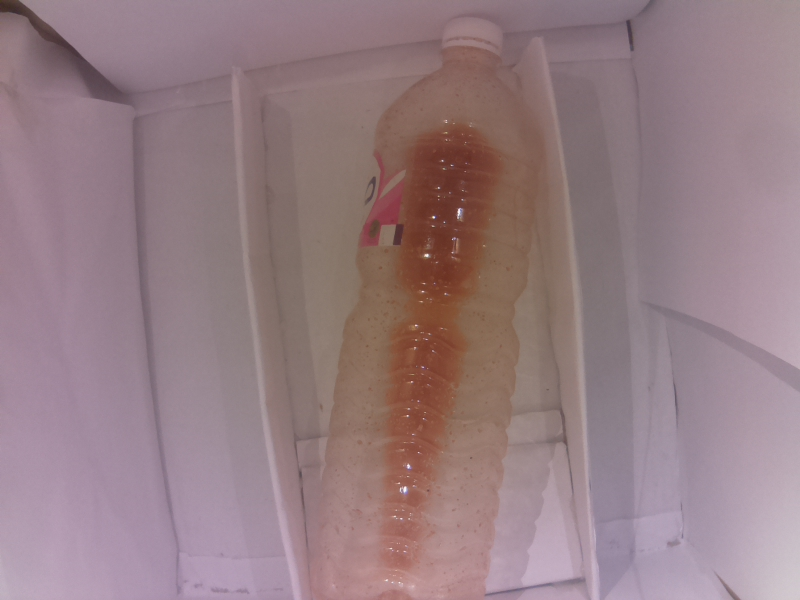botolplastik: (321, 18, 535, 600)
